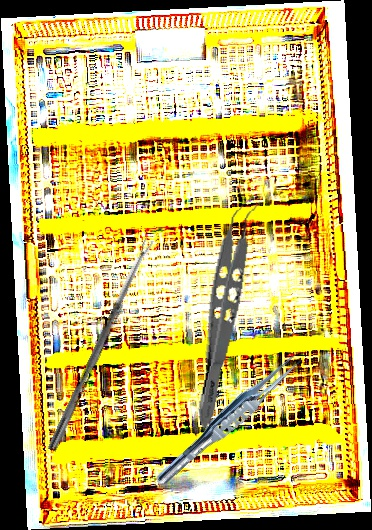Surgical Spoon: (47, 237, 155, 453)
Tissue Forceps: (151, 343, 309, 494), (191, 195, 264, 432)
